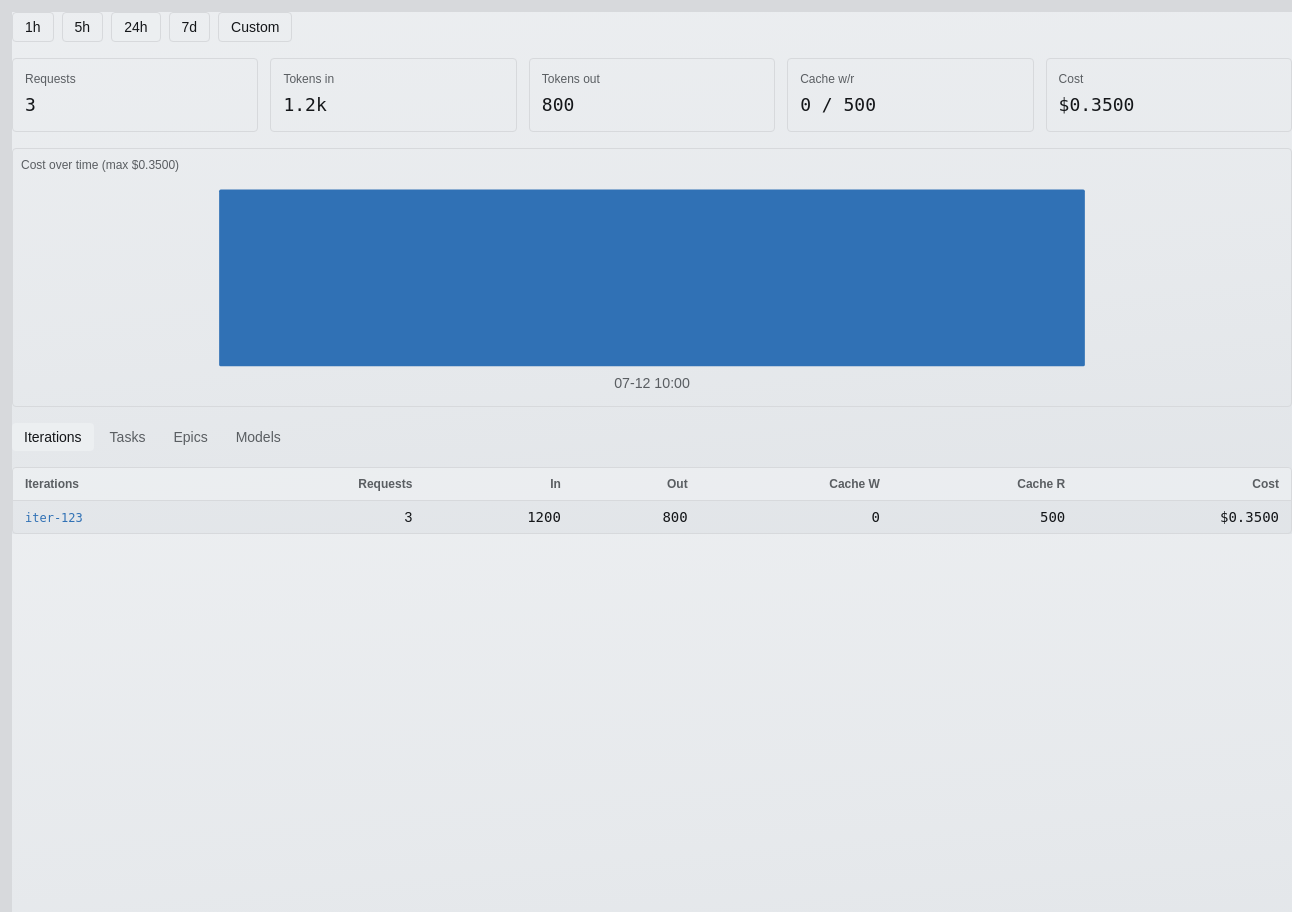
Scenario: switches grouping and requests the new group_by
Expected: the link "iter-123" is shown, [25,511,83,525]
Step 1. Click the button "Epics" → click(190, 437), box [161,423,220,451]
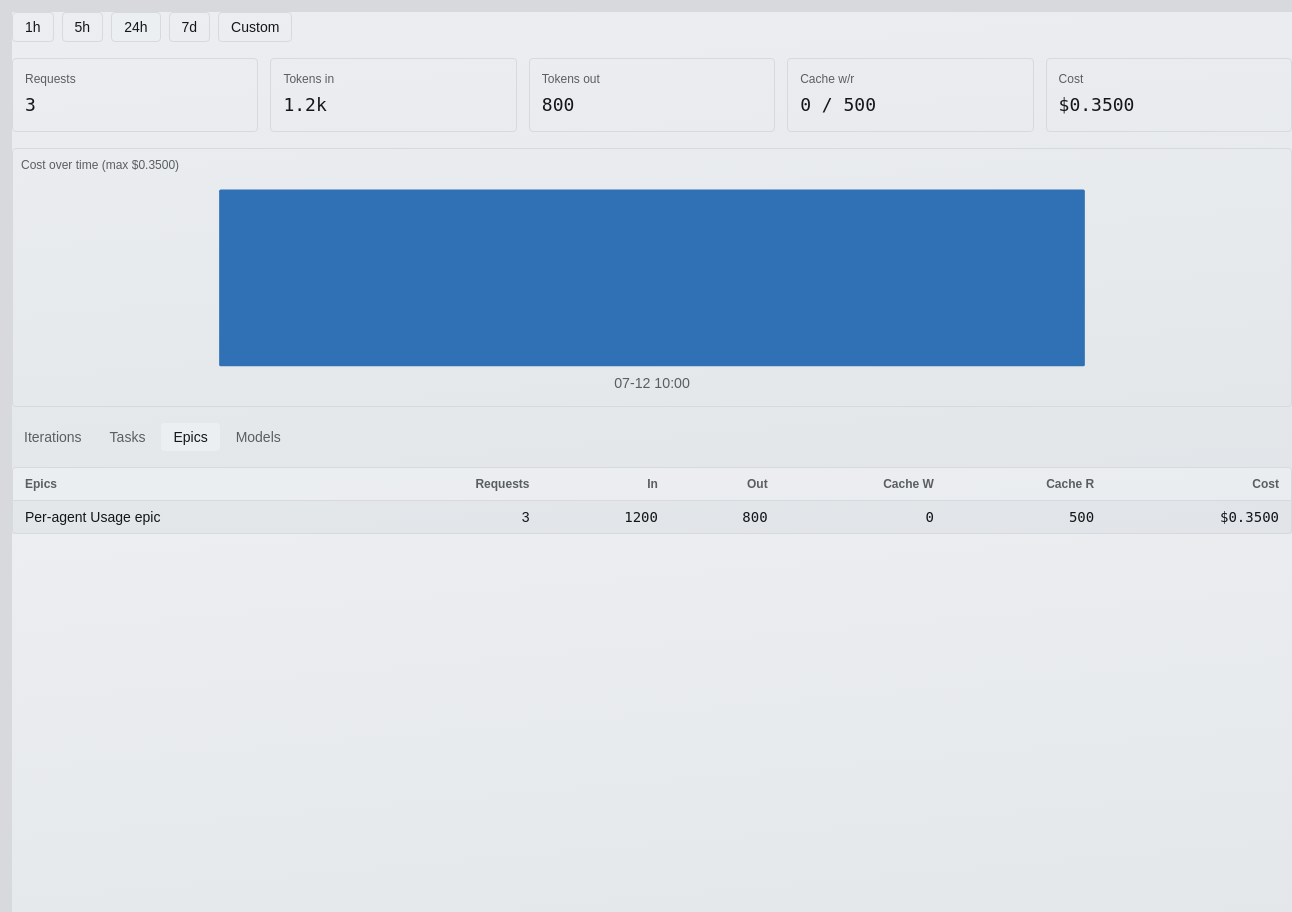
Now the text "Per-agent Usage epic" is shown, box [25,509,160,525]
